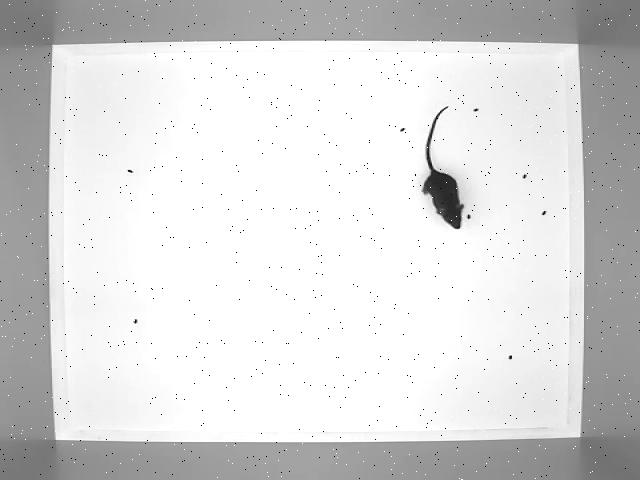Tikus: (418, 102, 472, 230)
